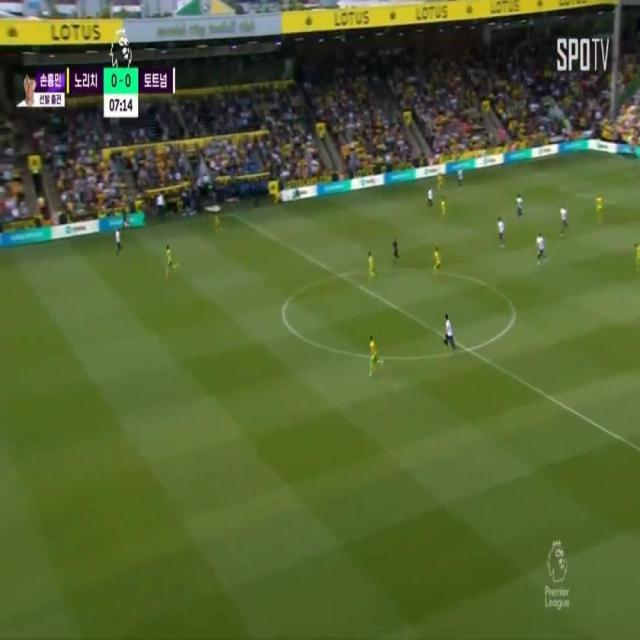player: (443, 312, 454, 353), (370, 336, 379, 375), (433, 245, 443, 279), (559, 202, 568, 236), (166, 246, 176, 275), (368, 249, 377, 281), (456, 165, 466, 193), (496, 215, 505, 245), (426, 184, 435, 209), (212, 212, 221, 237), (538, 234, 545, 263), (440, 195, 449, 217), (516, 196, 525, 218), (596, 193, 603, 219), (117, 228, 123, 257), (437, 173, 445, 194), (636, 238, 640, 277)
referee: (392, 237, 400, 264)
